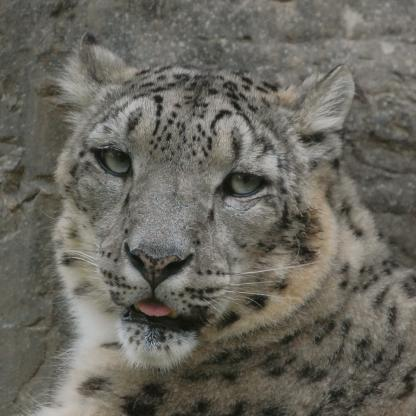leopard: (62, 36, 360, 372)
